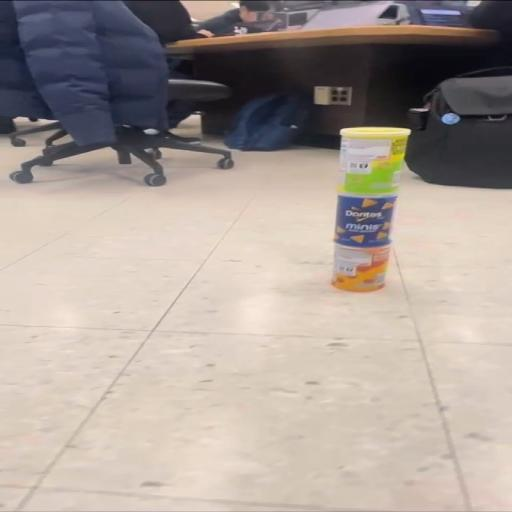pringles: (336, 124, 405, 194), (333, 193, 394, 246), (334, 244, 390, 292)
